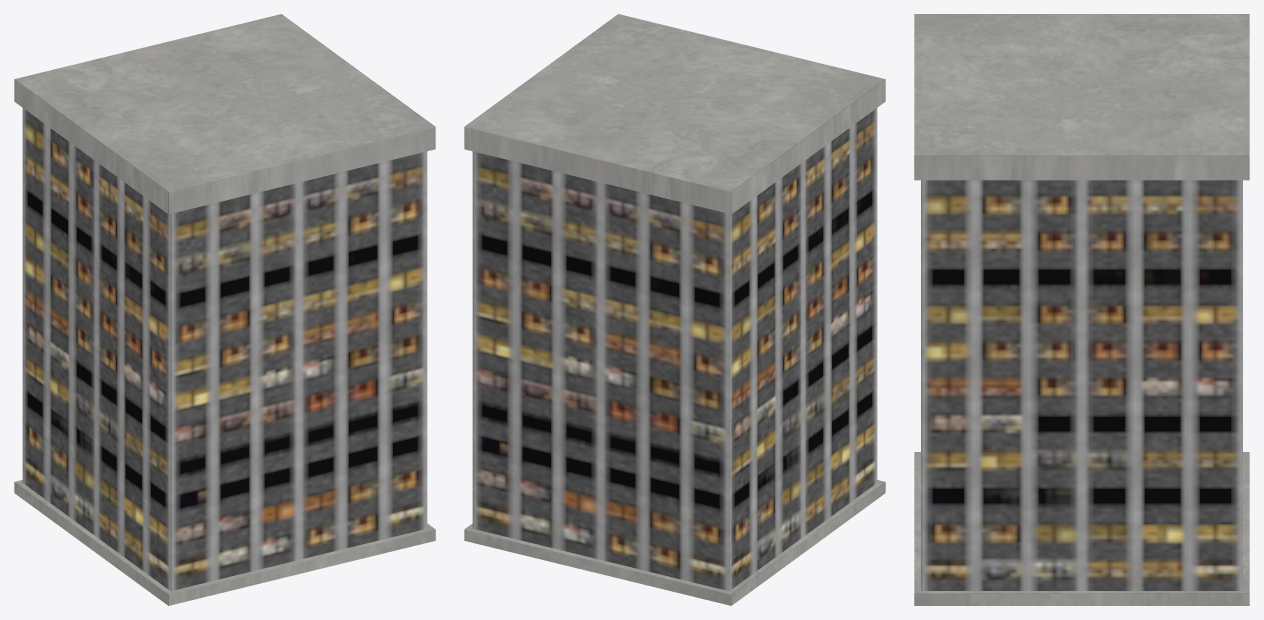
File: building_01.2.glb
The picture shows the model from 3 angles, left to right: view 1: azimuth 30°, elevation 25°; view 2: azimuth 150°, elevation 25°; view 3: azimuth 270°, elevation 25°; orthographic projection. The views are drawn at different scales.
Parts seen in each view (by area): view 1: building_01.2; view 2: building_01.2; view 3: building_01.2.
Boxes of the visible parts, x1,y1,x2,y2 form: building_01.2: [14, 14, 435, 605]; building_01.2: [464, 14, 885, 605]; building_01.2: [914, 14, 1249, 605].
Bounding box in the file's own units: 25 × 37 × 25.
Materials: 1 (1 with a texture image).
